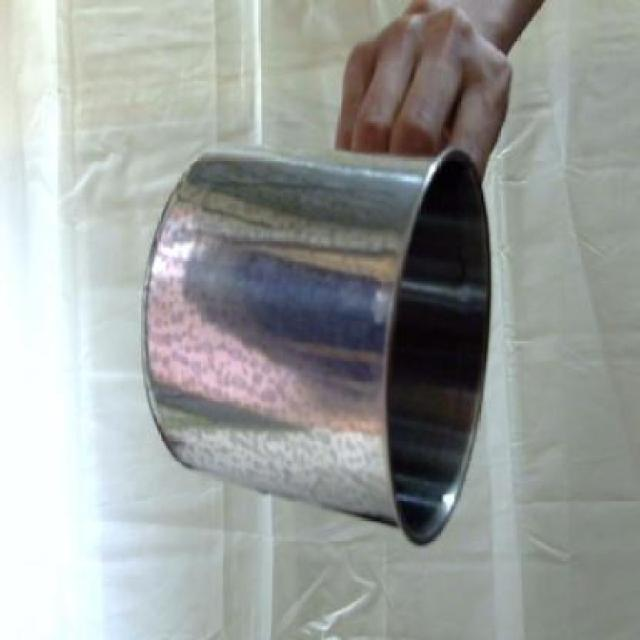Metal: (140, 147, 494, 547)
